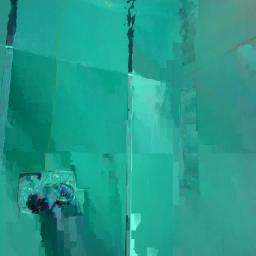Full: (20, 172, 76, 214)
